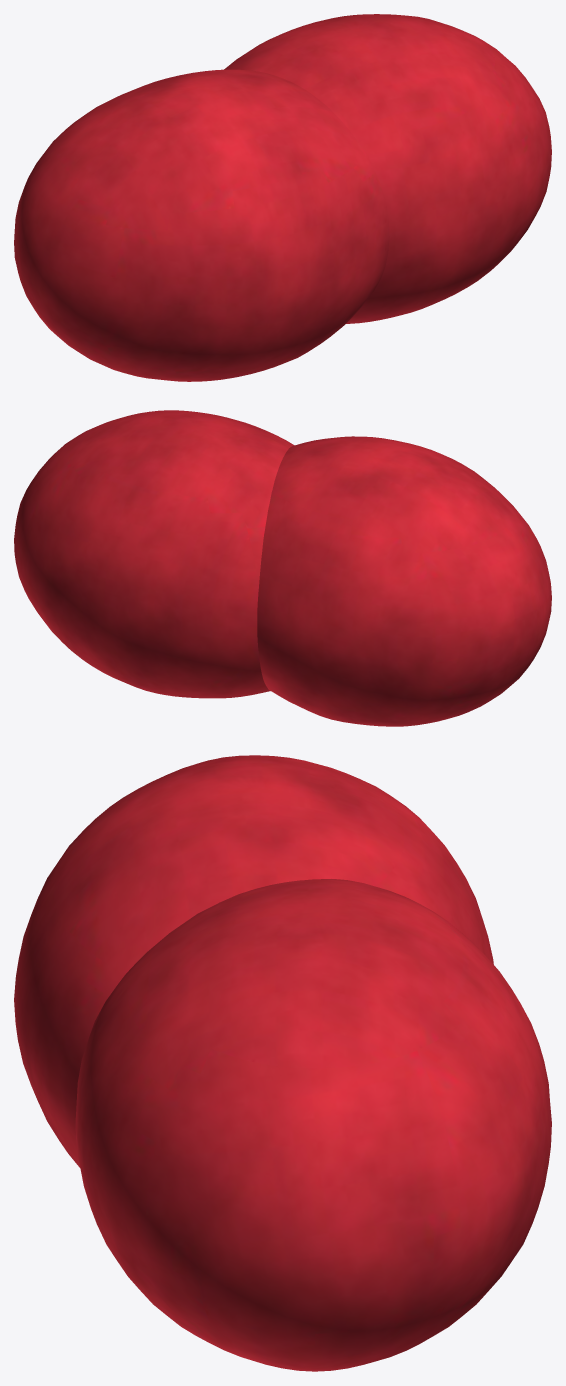
Rendered from candy_jelly_bean.glb.
The picture shows the model from 3 angles, top to bottom: view 1: azimuth 30°, elevation 25°; view 2: azimuth 150°, elevation 25°; view 3: azimuth 270°, elevation 25°; orthographic projection. The views are drawn at different scales.
Parts seen in each view (by area): view 1: candy_jelly_bean; view 2: candy_jelly_bean; view 3: candy_jelly_bean.
Part boxes in pixels (x1,y1,x2,y2): candy_jelly_bean: (14, 14, 551, 381); candy_jelly_bean: (14, 410, 551, 726); candy_jelly_bean: (14, 755, 551, 1371).
Bounding box in the file's own units: 0.9402 × 0.4739 × 0.5522.
Materials: 1 (1 with a texture image).
